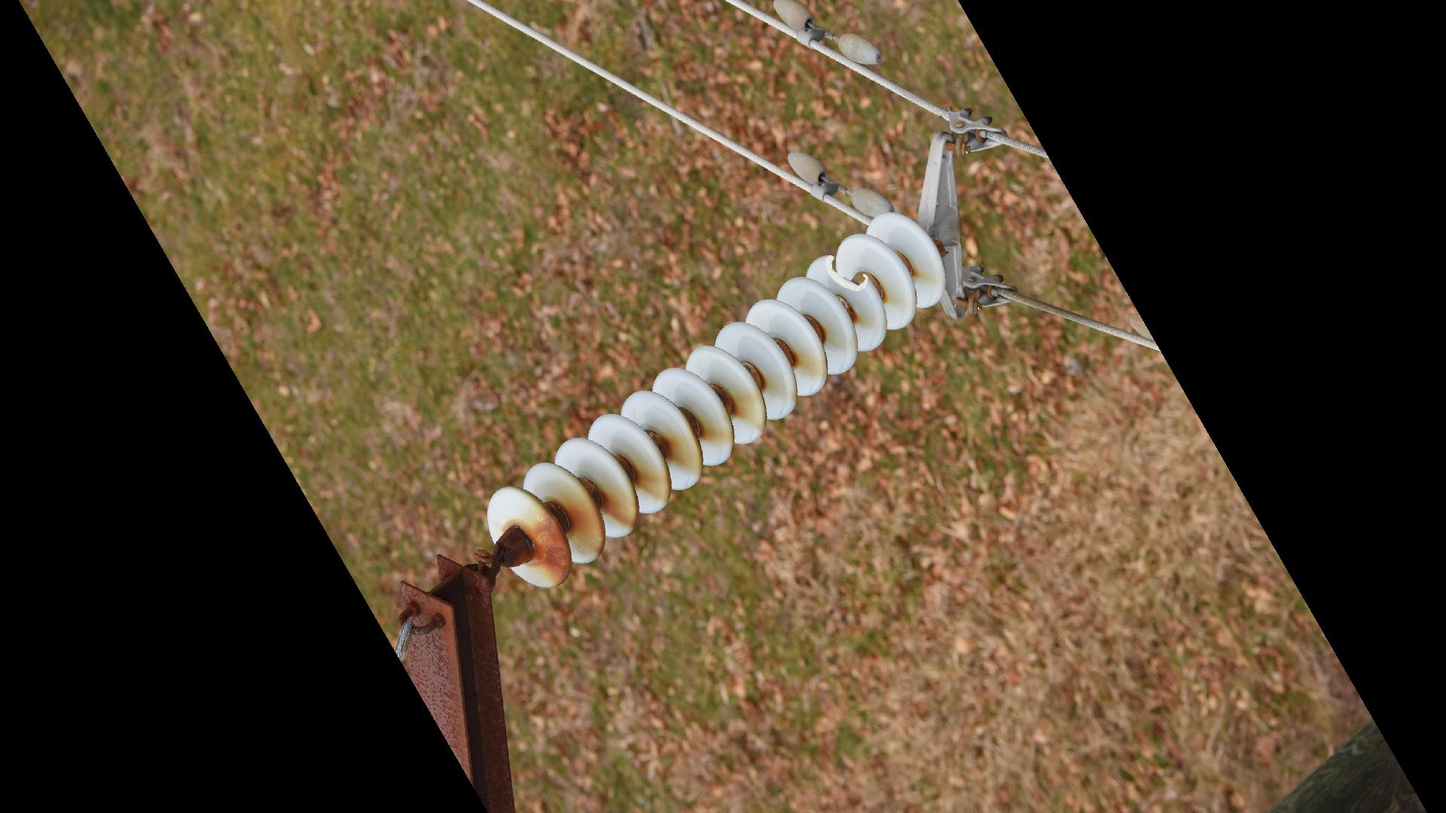insulator: (481, 209, 948, 596)
insulator_breakage: (817, 252, 877, 298)
